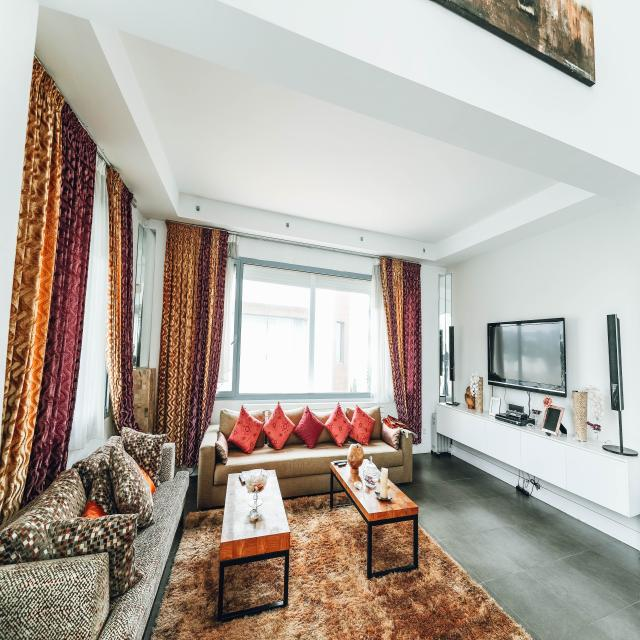floor: (394, 452, 640, 640)
wall: (445, 199, 640, 459), (436, 403, 629, 518), (412, 264, 445, 454), (238, 237, 373, 280), (143, 218, 167, 434), (131, 203, 143, 335), (627, 459, 640, 518), (445, 268, 452, 275)
